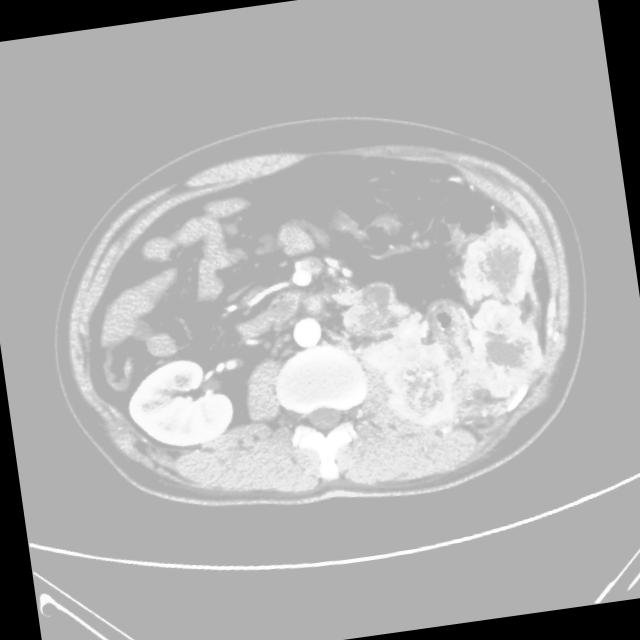TUMOR: (139, 184, 589, 459)
